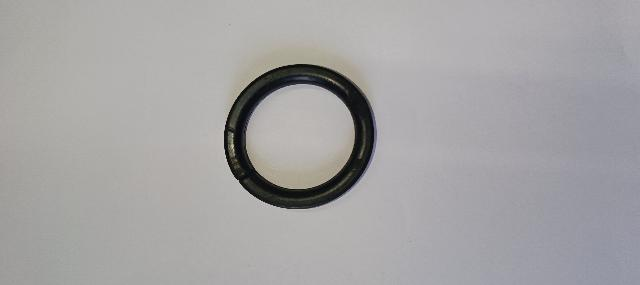4: (346, 155, 368, 172), (222, 124, 238, 138)
crack: (233, 164, 257, 185)
